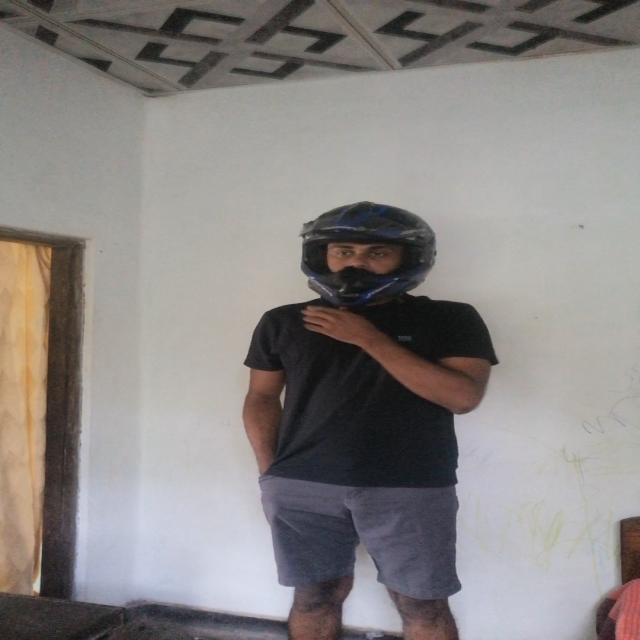Helmet_Wearer: (292, 201, 454, 311)
Person: (246, 196, 492, 640)
